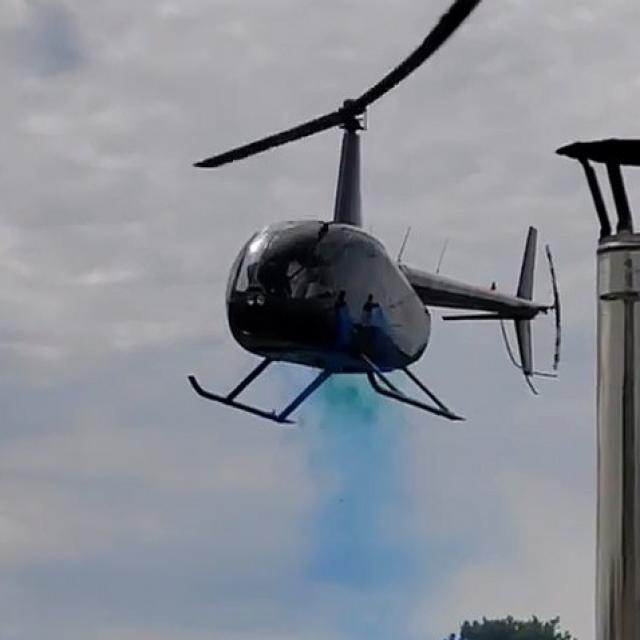helicopter: (164, 1, 576, 451)
